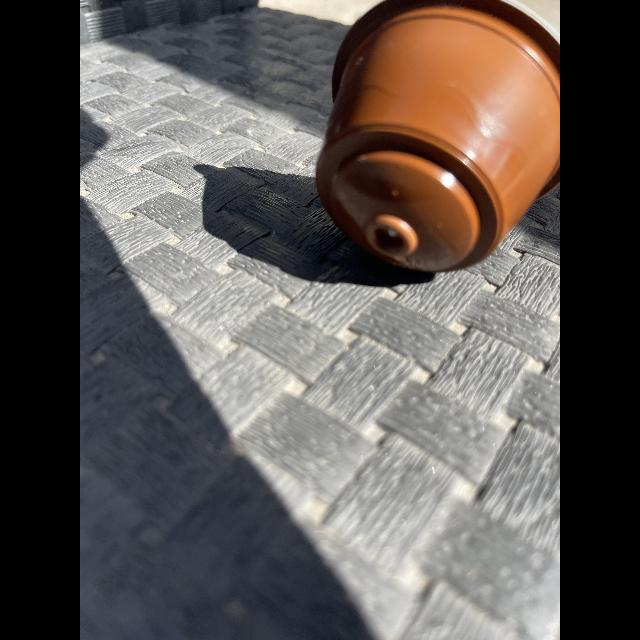intact_capsule: (298, 0, 560, 296)
